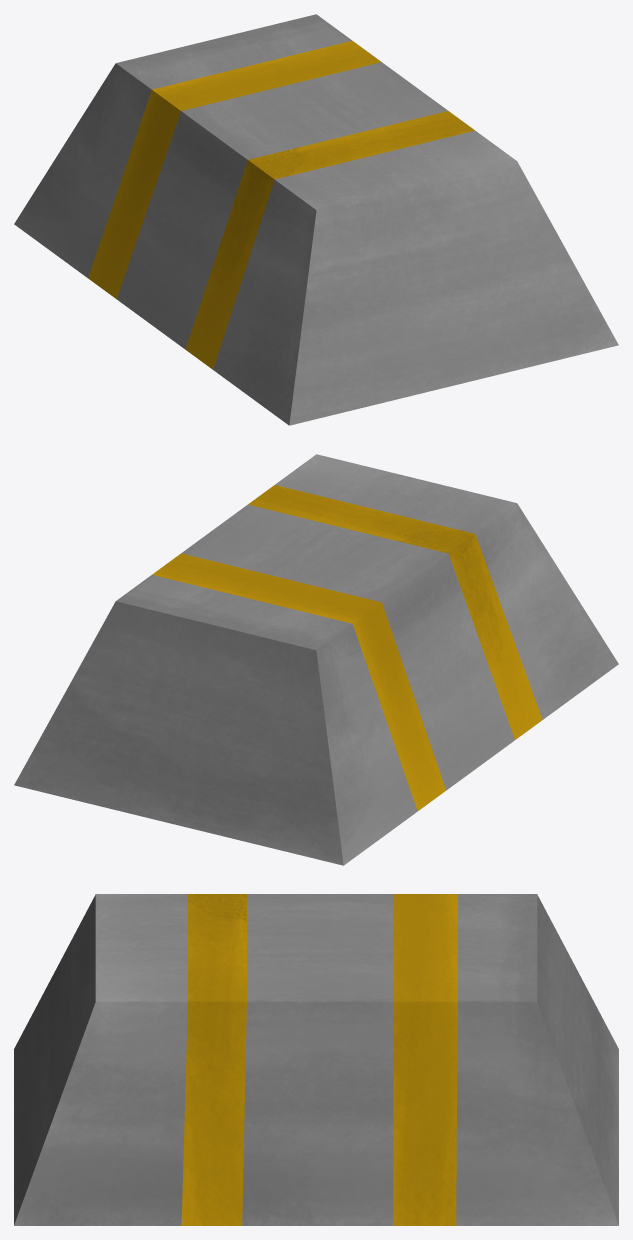
Rendered from Bar_mixed_IG.fbx.
3 views of the same model, one above another, from view 1: azimuth 30°, elevation 25°; view 2: azimuth 150°, elevation 25°; view 3: azimuth 270°, elevation 25° (orthographic). The views are drawn at different scales.
Parts seen in each view (by area): view 1: bar_mixed_IG; view 2: bar_mixed_IG; view 3: bar_mixed_IG.
Boxes of the visible parts, box(x1,y1,x2,y2) form: bar_mixed_IG: box(14, 14, 618, 425); bar_mixed_IG: box(14, 454, 618, 865); bar_mixed_IG: box(14, 894, 618, 1225).
Size of the model in its own units: 18.18 by 26.3 by 9.09.
